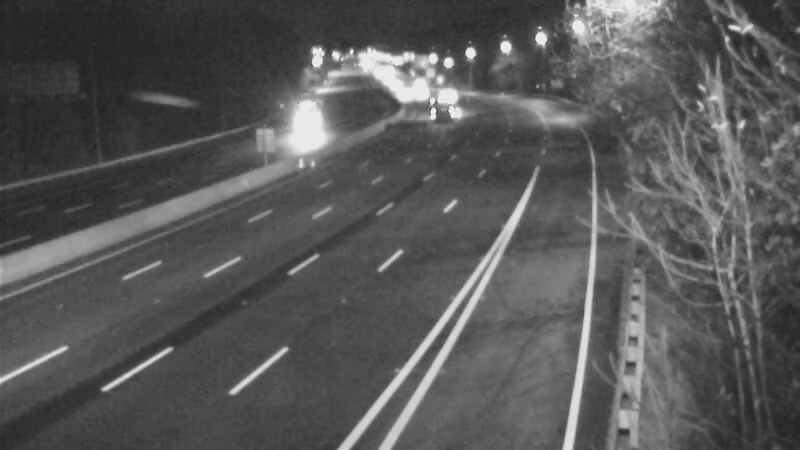vehicle: (427, 74, 477, 124), (381, 74, 431, 124), (413, 87, 463, 137), (282, 113, 332, 163)
